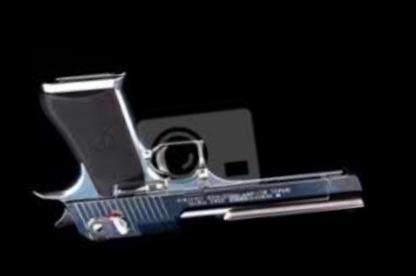pistol: (8, 11, 380, 270)
